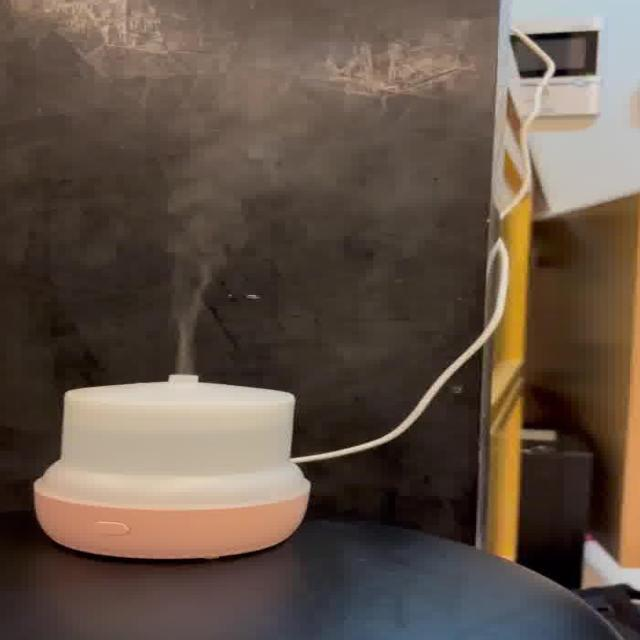fire: (163, 90, 372, 372)
